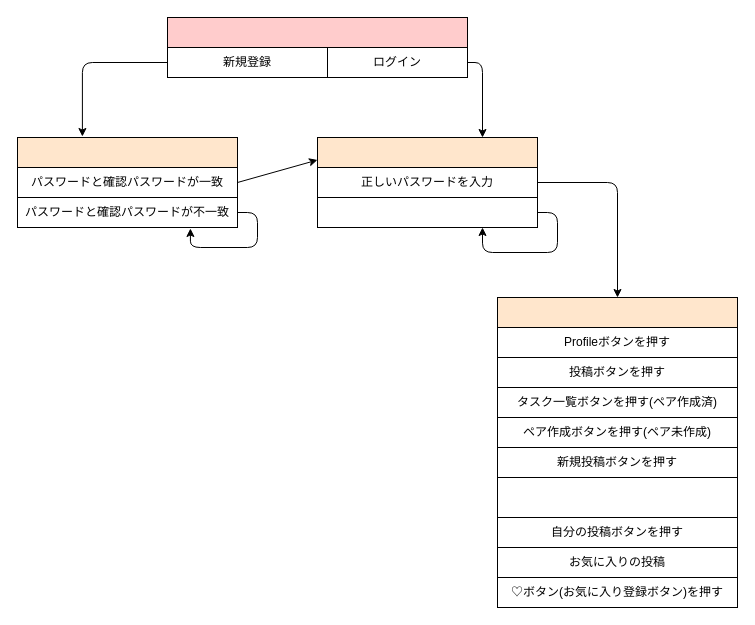
This 755x625 diagram has some shape labels left out. Here are the shapes that lost their labels. From the top down, the box of each, then its label:
(166, 16, 468, 48): グローバルナビゲーション(ログアウト中)
(16, 136, 238, 168): 新規登録画面
(316, 136, 538, 168): ログイン画面
(316, 196, 538, 228): 誤ったパスワードを入力
(496, 296, 738, 328): 投稿一覧画面(トップ)
(496, 476, 738, 518): 検索ワード・プルダウンを選択して 検索ボタンを押す
